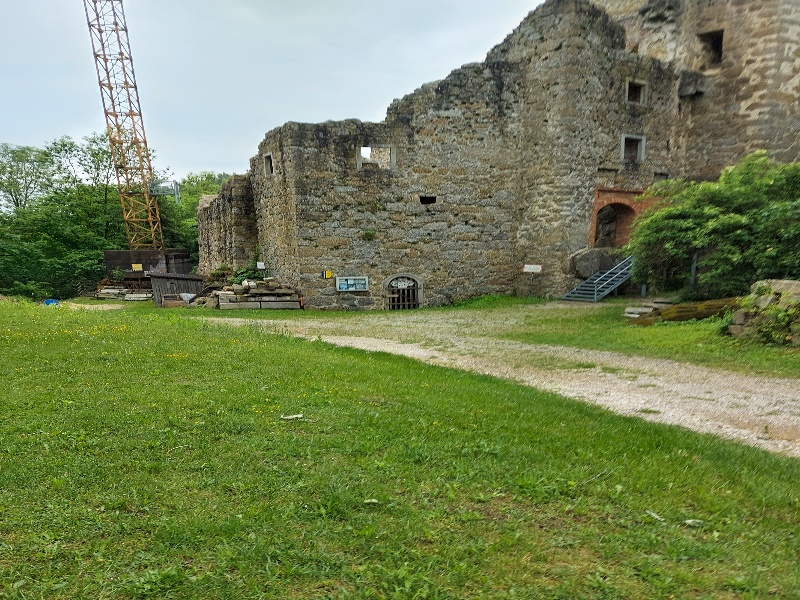dungeon: (374, 271, 426, 316)
